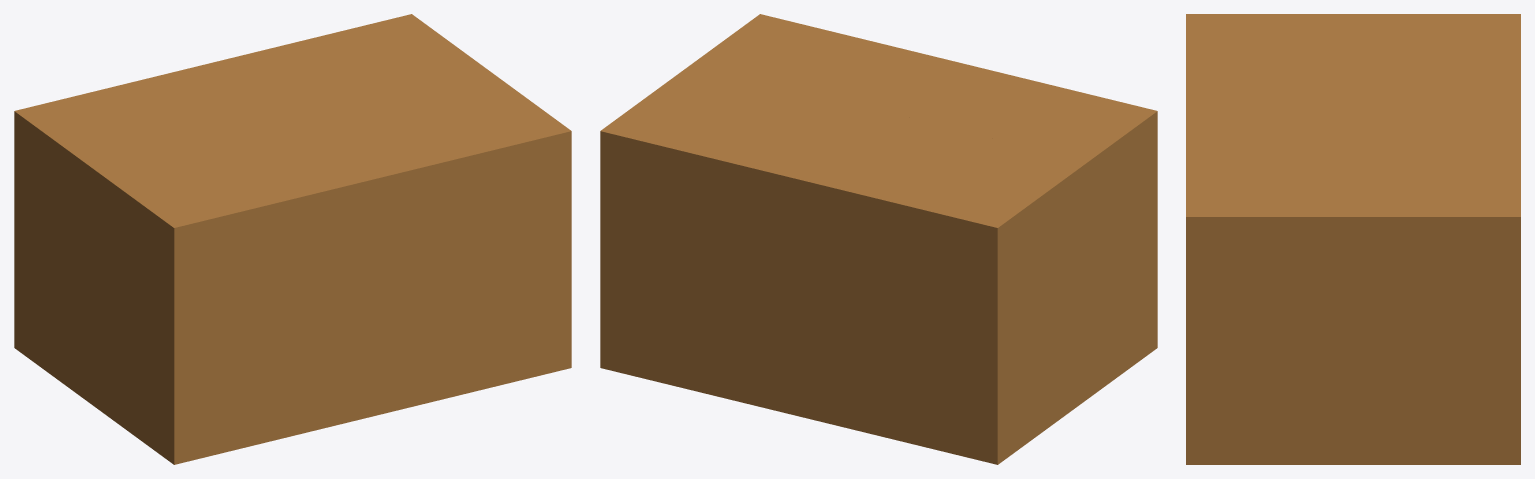
File: DeliveryBox.obj
The picture shows the model from 3 angles, left to right: view 1: azimuth 30°, elevation 25°; view 2: azimuth 150°, elevation 25°; view 3: azimuth 270°, elevation 25°; orthographic projection. The views are drawn at different scales.
Parts seen in each view (by area): view 1: deliverybox; view 2: deliverybox; view 3: deliverybox.
Part boxes in pixels (x1,y1,x2,y2): deliverybox: [14, 14, 571, 464]; deliverybox: [600, 14, 1157, 464]; deliverybox: [1186, 14, 1520, 464].
Bounding box in the file's own units: 5.5 × 3.13 × 3.84.
